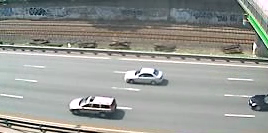car: (66, 93, 120, 119), (123, 65, 166, 88)
